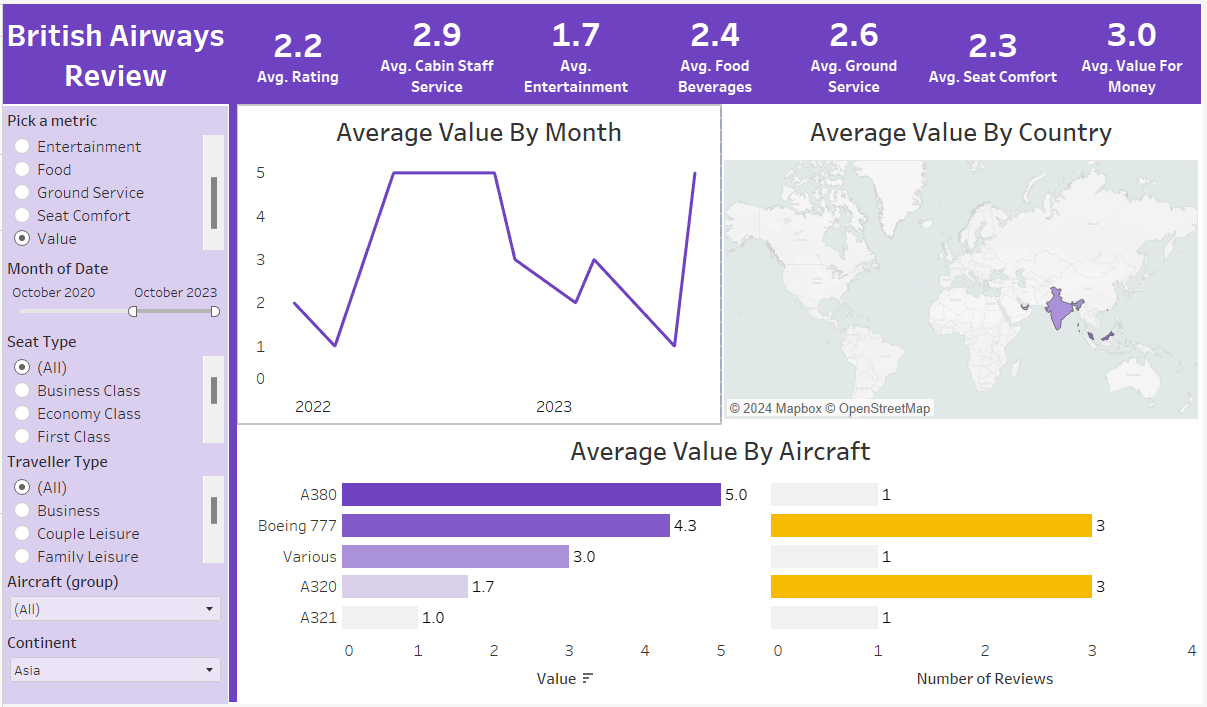

What the dashboard file says about the page in this screenshot:
{"tool":"tableau","page":{"name":"Dashboard 1","canvas":[1200,700],"ordinal":0},"visuals":[{"type":"text","box":[0,0,225,100]},{"type":"worksheet","title":"Summary","mark":"Automatic","box":[225,0,973,100]},{"type":"blank","box":[226,100,8,598]},{"type":"parameter","param":"[Parameters].[Parameter 1]","box":[0,102,225,148]},{"type":"worksheet","title":"Month","mark":"Automatic","rows":["Calculation_1213157192004177920"],"cols":["date"],"box":[235,102,482,317]},{"type":"worksheet","title":"Map","mark":"Multipolygon","box":[717,102,482,317]},{"type":"filter","title":"Map","param":"[federated.00fxezy1kae7h61a49g961d8gd50].[tmn:date:qk]","box":[0,250,225,73]},{"type":"filter","title":"Map","param":"[federated.00fxezy1kae7h61a49g961d8gd50].[none:seat_type:nk]","box":[0,323,225,120]},{"type":"worksheet","title":"Aircraft","mark":"Automatic","cols":["Calculation_1213157192004177920","ba_reviews.csv_B4369CD2B98B4565819D38FDC119DE84"],"box":[235,421,965,275]},{"type":"filter","title":"Map","param":"[federated.00fxezy1kae7h61a49g961d8gd50].[none:traveller_type:nk]","box":[0,443,225,120]},{"type":"filter","title":"Map","param":"[federated.00fxezy1kae7h61a49g961d8gd50].[Aircraft (group)]","box":[0,563,225,61]},{"type":"filter","title":"Map","param":"[federated.00fxezy1kae7h61a49g961d8gd50].[none:Continent:nk]","box":[0,624,225,61]}]}

Visuals, with their boxes in screenshot pixels (x1, y1, x2, y2), scaled from the page's 1200x700 canvas onto the 1207x707 screenshot:
text: crop(0, 0, 226, 101)
"Summary" worksheet: crop(226, 0, 1205, 101)
blank: crop(227, 101, 235, 705)
parameter: crop(0, 103, 226, 252)
"Month" worksheet: crop(236, 103, 721, 423)
"Map" worksheet (Multipolygon marks): crop(721, 103, 1206, 423)
"Map" filter: crop(0, 252, 226, 326)
"Map" filter: crop(0, 326, 226, 447)
"Aircraft" worksheet: crop(236, 425, 1206, 703)
"Map" filter: crop(0, 447, 226, 569)
"Map" filter: crop(0, 569, 226, 630)
"Map" filter: crop(0, 630, 226, 692)
